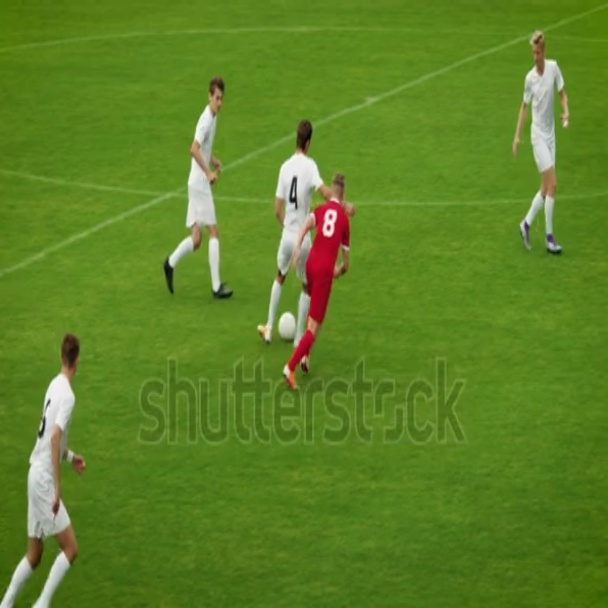ball: (281, 309, 297, 344)
